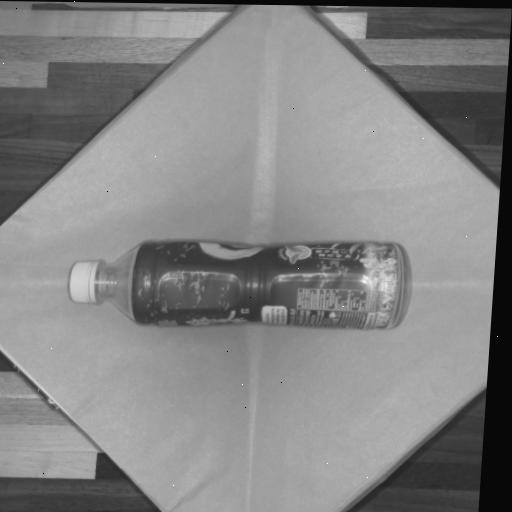bottle: (69, 241, 402, 327)
